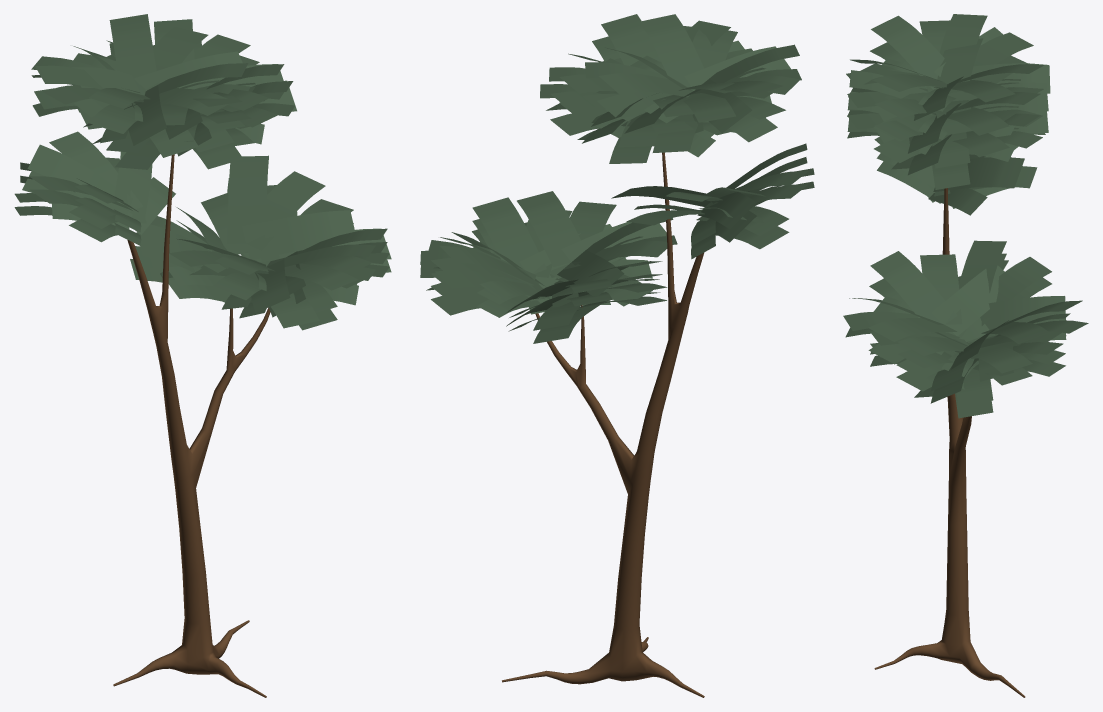
File: smallJungleTree_low.fbx
The picture shows the model from 3 angles, left to right: view 1: azimuth 30°, elevation 25°; view 2: azimuth 150°, elevation 25°; view 3: azimuth 270°, elevation 25°; orthographic projection. The views are drawn at different scales.
Parts seen in each view (by area): view 1: jungleLeafSmall_low1, jungleTrunkSmall_low; view 2: jungleLeafSmall_low1, jungleTrunkSmall_low; view 3: jungleLeafSmall_low1, jungleTrunkSmall_low.
Part boxes in pixels (x1,y1,x2,y2): jungleLeafSmall_low1: [14, 14, 391, 330]; jungleTrunkSmall_low: [113, 154, 270, 697]; jungleLeafSmall_low1: [420, 14, 814, 343]; jungleTrunkSmall_low: [502, 152, 704, 697]; jungleLeafSmall_low1: [843, 14, 1088, 418]; jungleTrunkSmall_low: [874, 188, 1025, 697].
Bounding box in the file's own units: 479 × 818 × 312.
